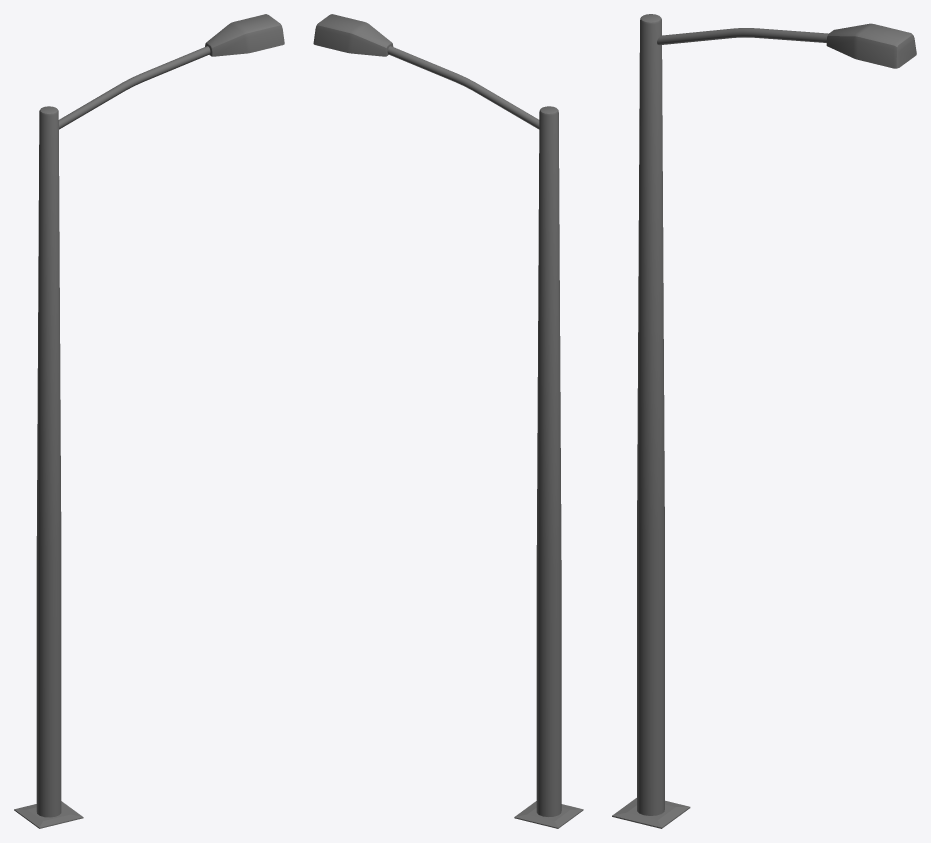
Rendered from postesluzsimple.fbx.
3 views of the same model, side by side, from view 1: azimuth 30°, elevation 25°; view 2: azimuth 150°, elevation 25°; view 3: azimuth 330°, elevation 25° (orthographic). The views are drawn at different scales.
Visible parts, largest first — view 1: Cylinder.002; view 2: Cylinder.002; view 3: Cylinder.002.
Part boxes in pixels (x1,y1,x2,y2): Cylinder.002: (14,14,284,828); Cylinder.002: (313,14,583,828); Cylinder.002: (612,14,916,828).
Size of the model in its own units: 91.14 by 259 by 16.05.
1 material, 1 textured.
